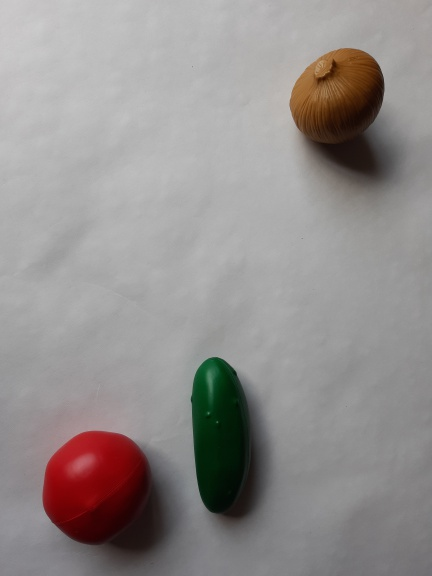cucumber: (185, 353, 257, 526)
onion: (282, 40, 389, 150)
tomato: (30, 416, 156, 551)
